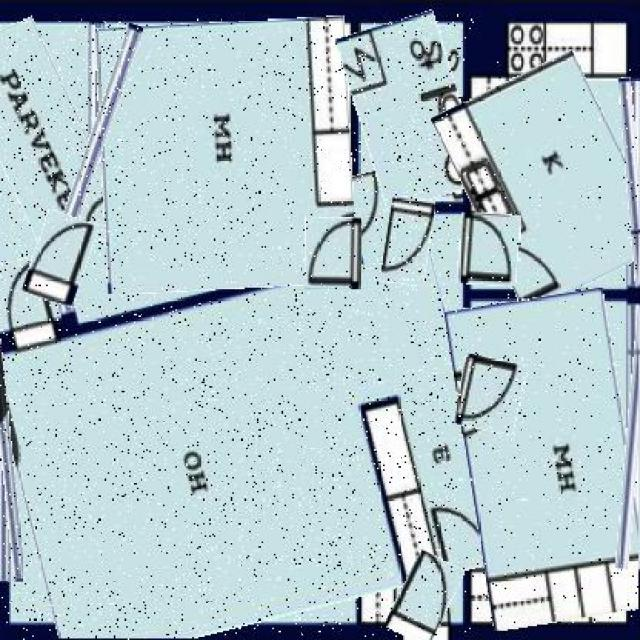door: (28, 212, 92, 305), (391, 552, 457, 640), (459, 357, 526, 434), (458, 212, 520, 286), (383, 197, 432, 286), (304, 217, 362, 289)
window: (68, 22, 123, 270), (621, 301, 640, 569), (0, 328, 17, 582), (623, 75, 640, 288)
zone: (0, 187, 483, 640), (98, 18, 354, 291), (457, 292, 640, 625), (451, 60, 640, 300), (0, 18, 112, 279), (348, 14, 474, 206)
